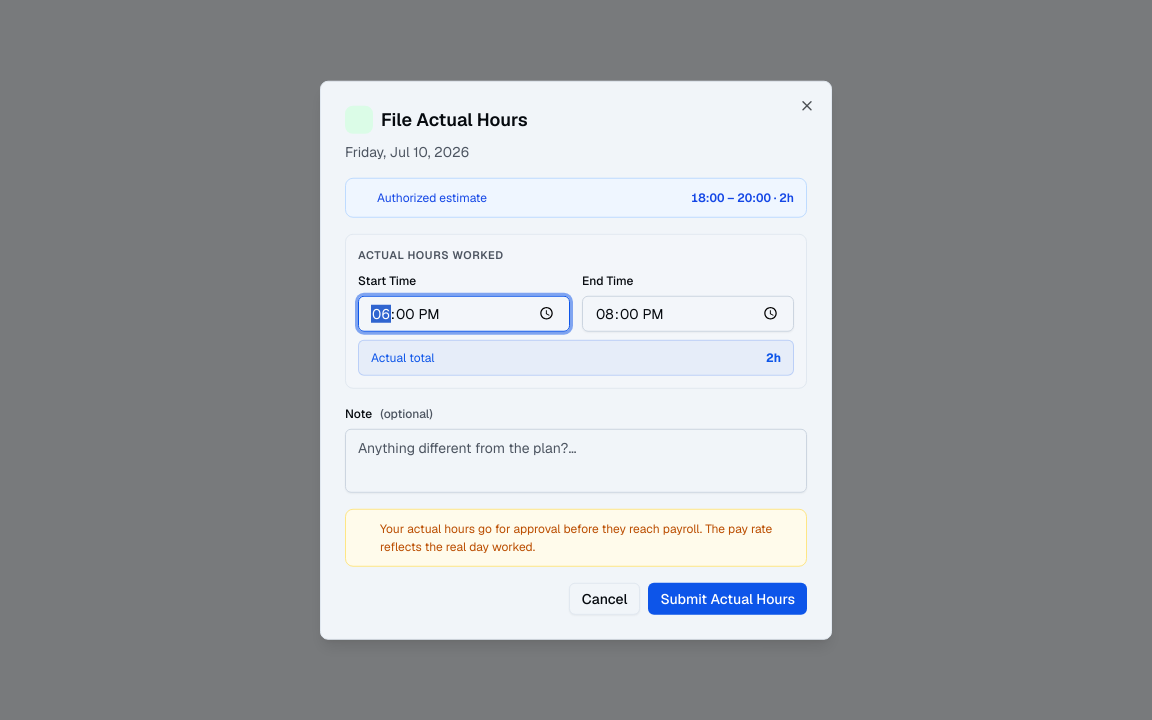
Test: OvertimeClaimDialog — validation › flags an end that is not after the start
Replace the text in the time field below "End Time" with "18:00" at coordinates (688, 313), box [582,295,794,331]
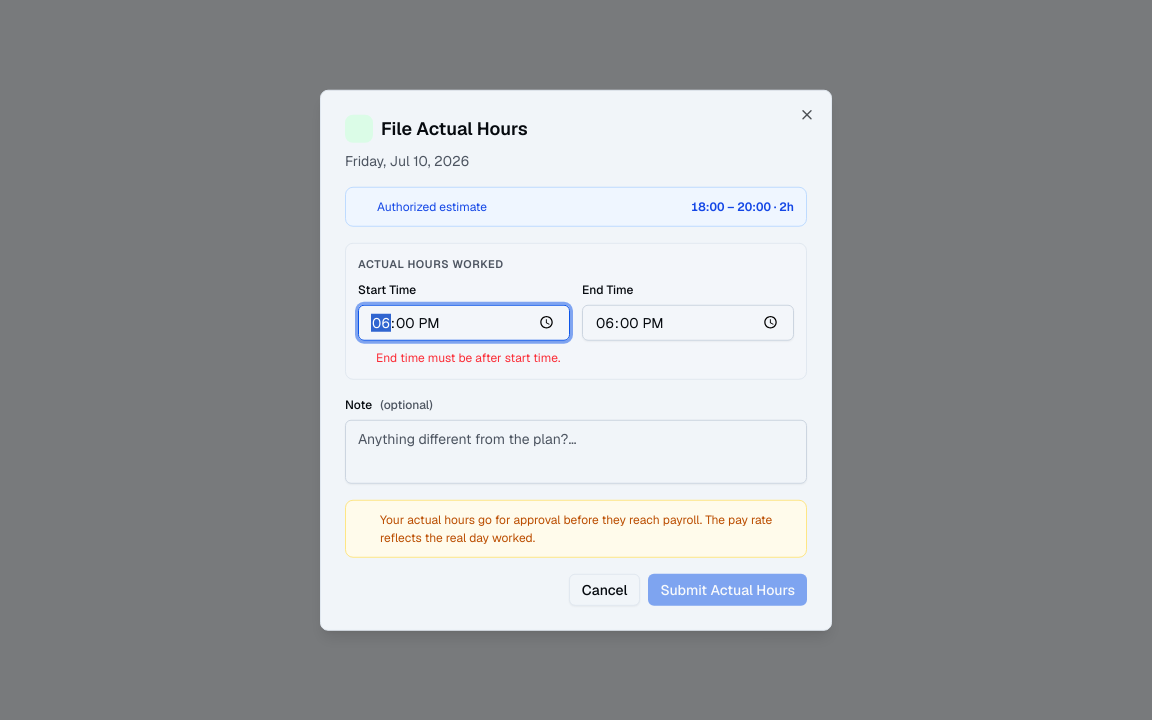
Now the text "End time must be after start time." is shown, box [376,349,560,365]
